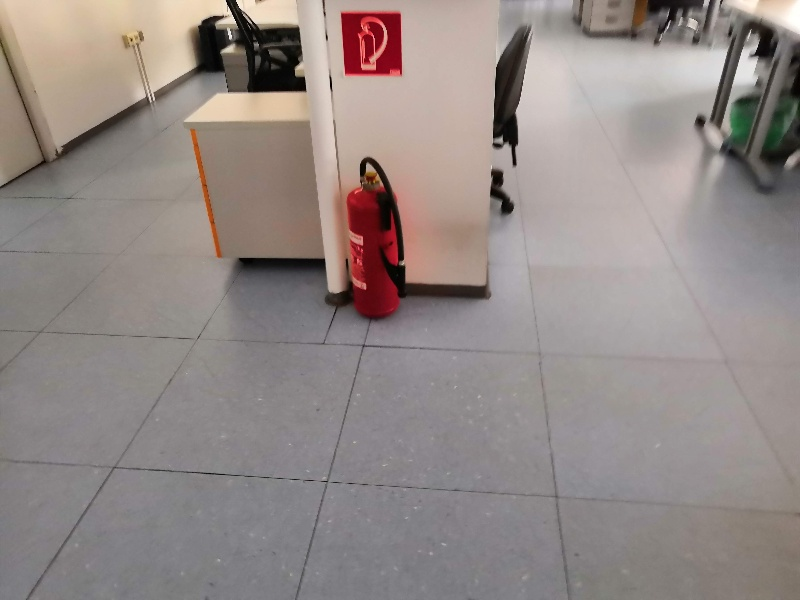vataparat: (346, 157, 407, 318)
